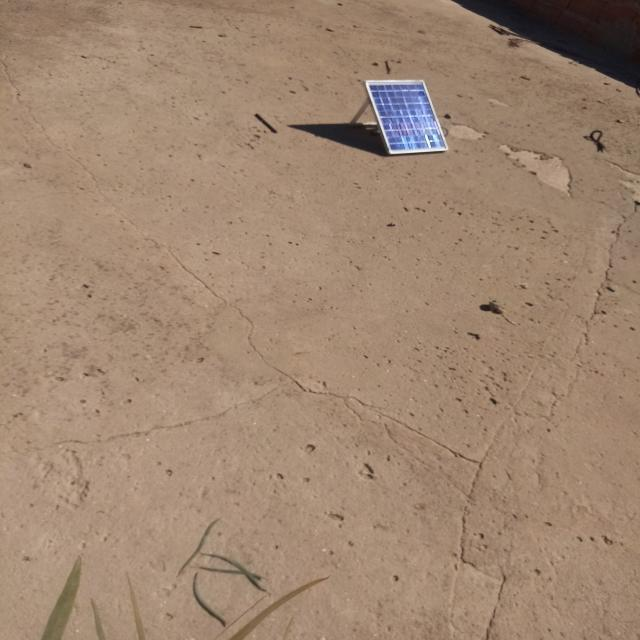Normal Solar Panel: (366, 80, 449, 154)
